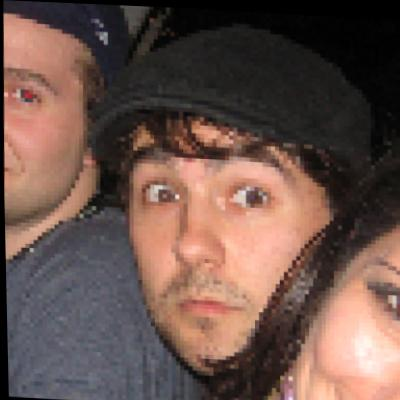surprise: (115, 73, 334, 377)
